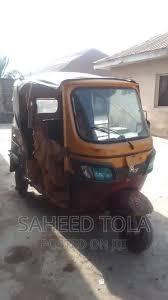keke: (2, 76, 161, 300), (10, 68, 163, 258)
